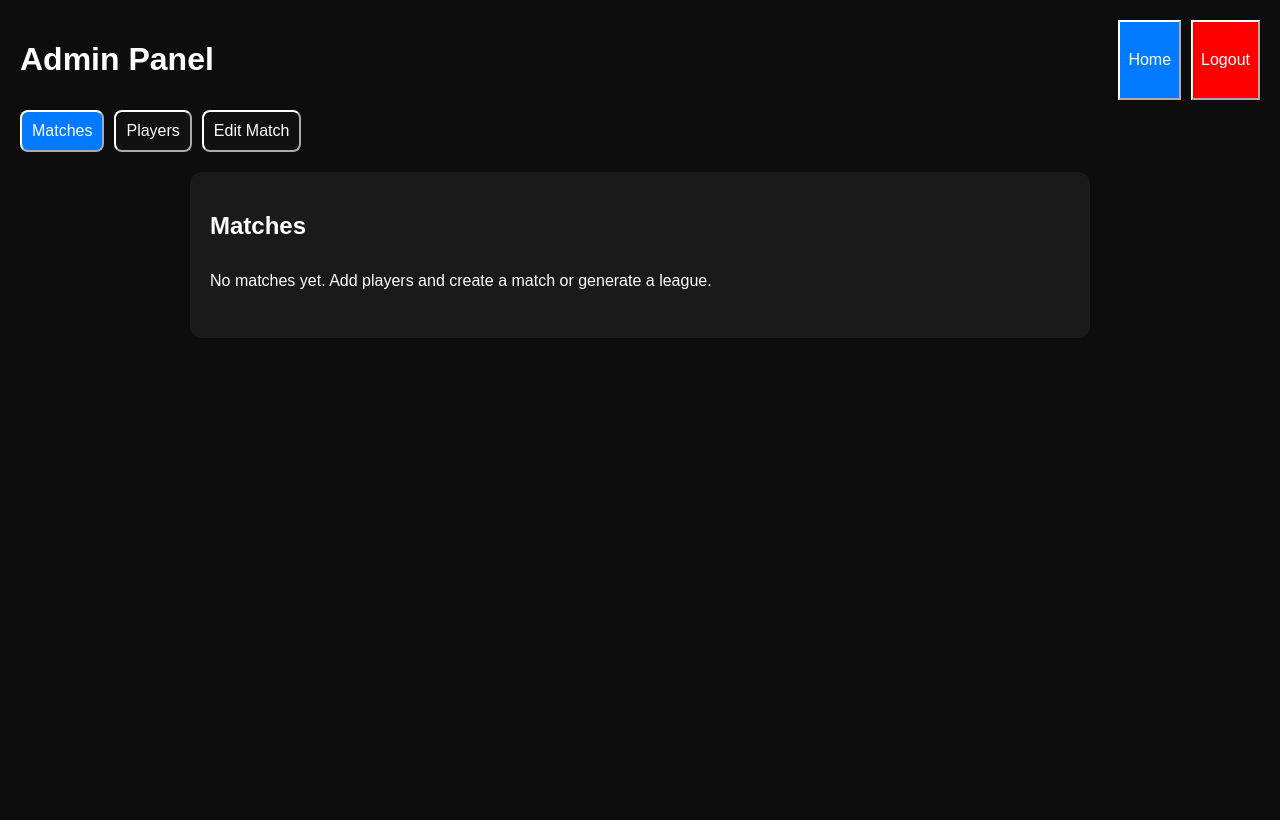
Test: player management feedback › retains the entered name after a denied create, then confirms a successful retry
Click the button "Players": (153, 131) [114,110,192,152]
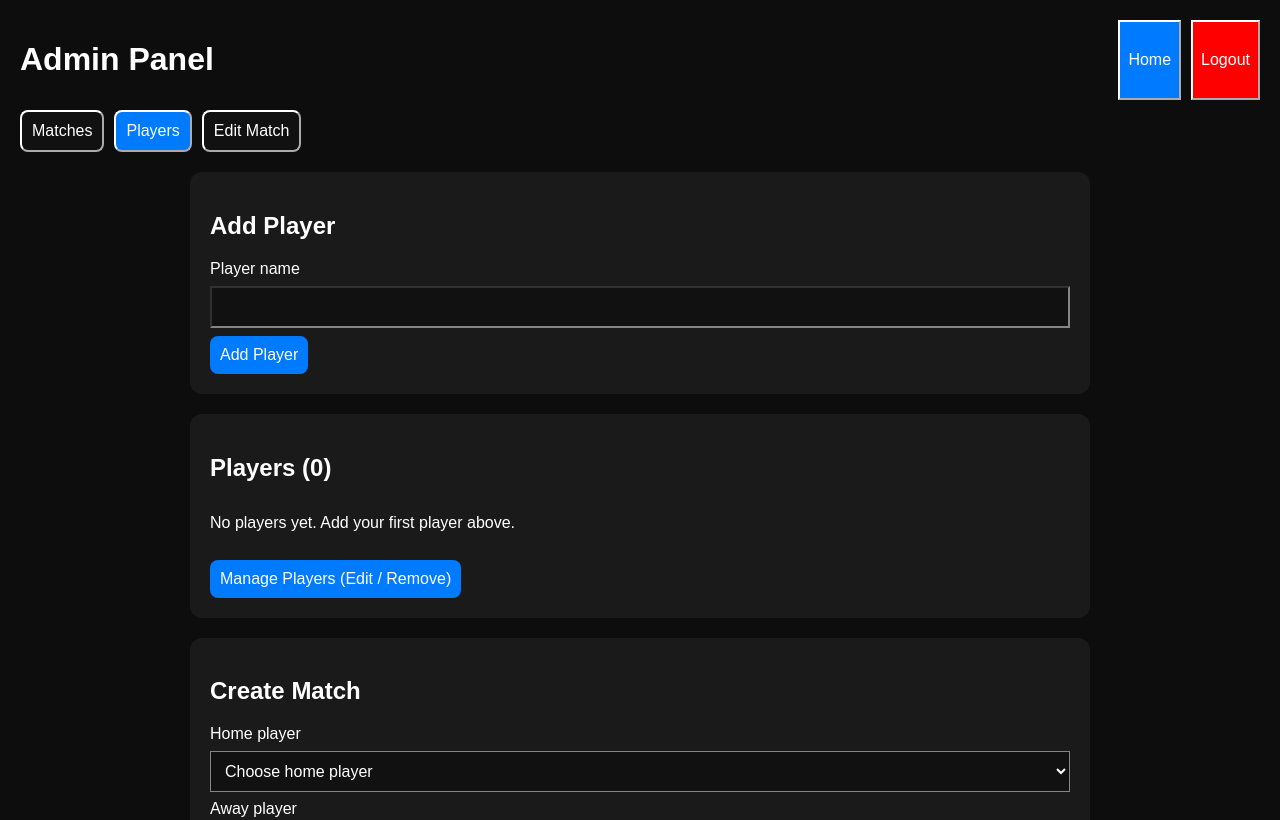
In the field labelled "Player name": (640, 307) [210,286,1070,328], type "Alex"
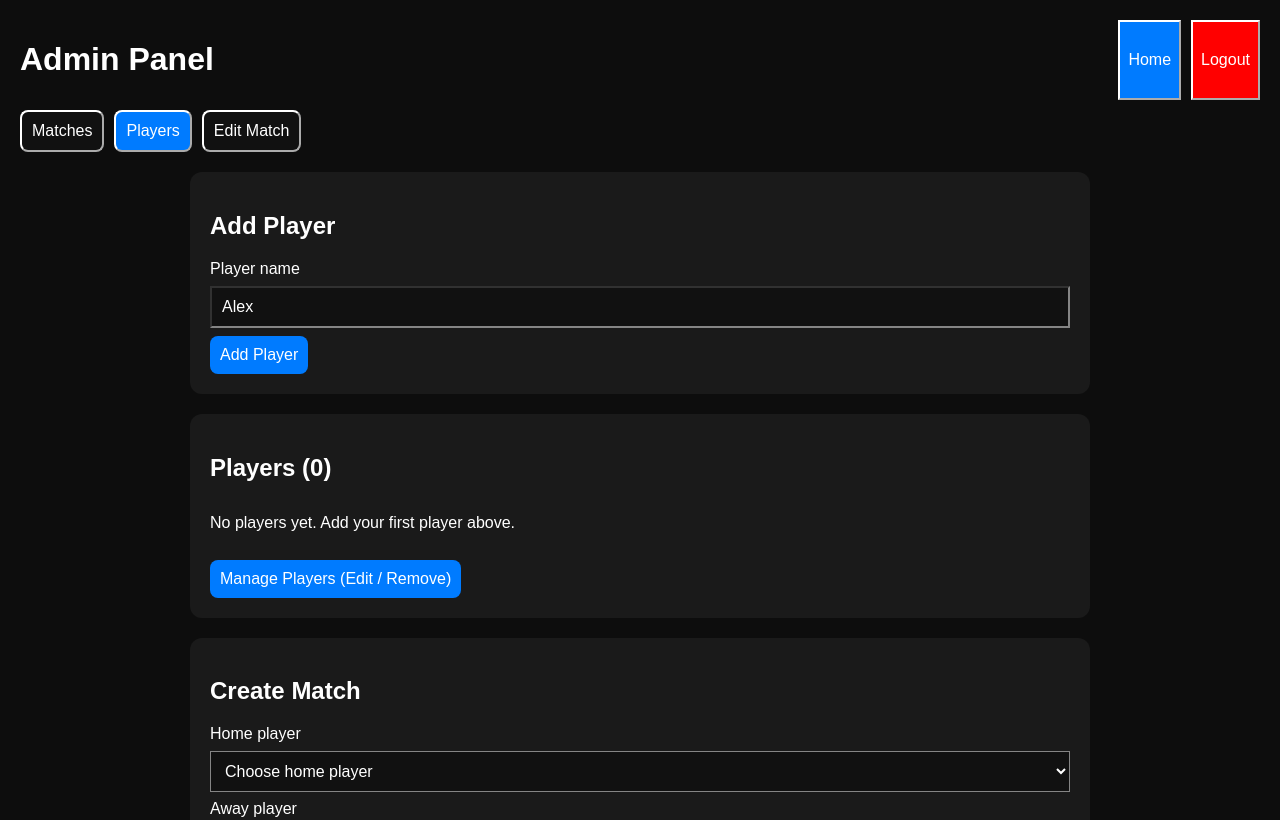
Click the button "Add Player": (259, 355) [210,336,308,374]
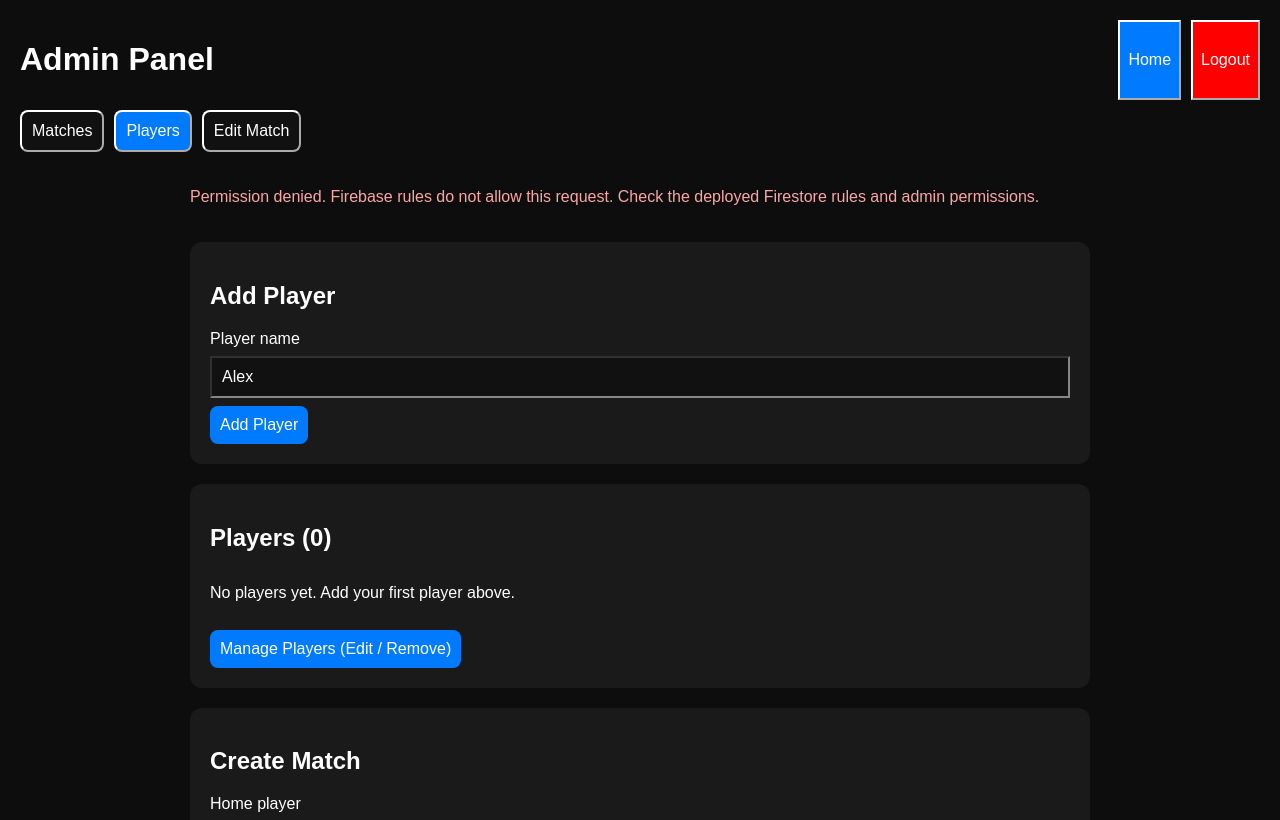
Result: the 1st message shows "Permission denied" at [190,188,1039,205]
Click the button "Add Player": (259, 425) [210,406,308,444]
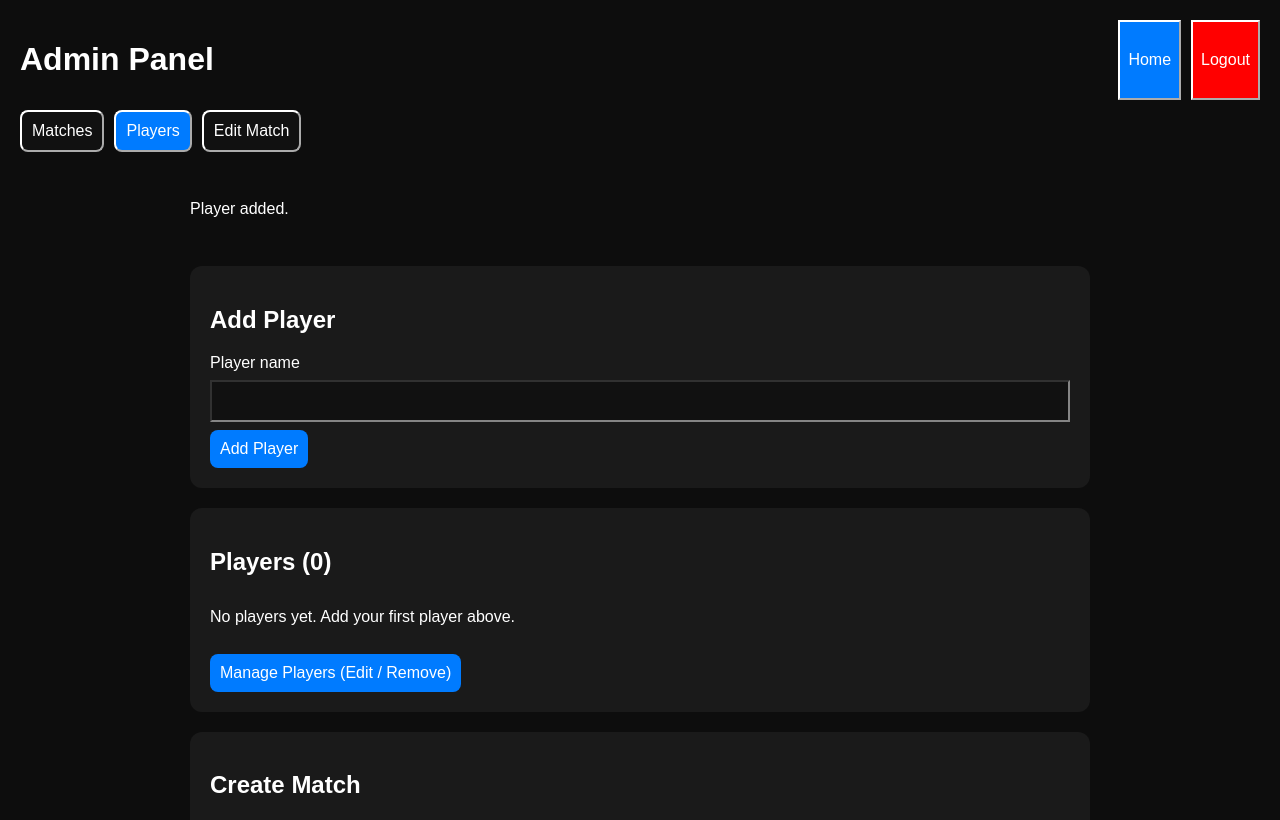
Result: the text "Player added." is shown at [190,200,289,217]
Result: the field labelled "Player name" is empty at [210,380,1070,422]
